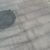zebra: (1, 1, 50, 29)
